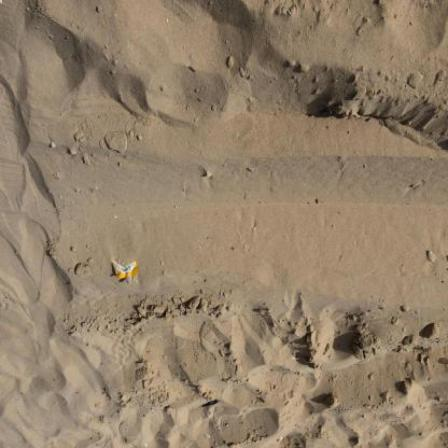Other litter: (112, 261, 139, 286)
Straw: (203, 401, 220, 408)
